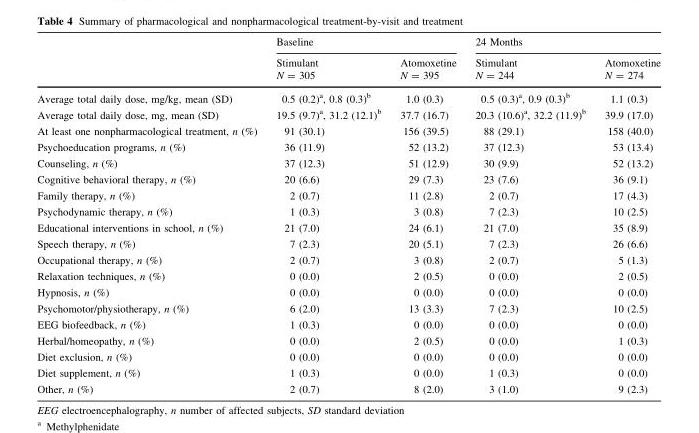table: (36, 36, 660, 394)
table column: (36, 36, 266, 394), (465, 36, 594, 394), (266, 36, 390, 394), (390, 36, 465, 394), (594, 36, 660, 394)
table column header: (36, 36, 660, 86)
table row: (36, 52, 660, 86), (36, 86, 660, 105), (36, 105, 660, 123), (36, 219, 660, 236), (36, 348, 660, 365), (36, 36, 660, 52), (36, 123, 660, 139), (36, 139, 660, 155), (36, 155, 660, 171), (36, 171, 660, 187), (36, 187, 660, 203), (36, 203, 660, 219), (36, 236, 660, 252), (36, 252, 660, 268), (36, 268, 660, 284), (36, 284, 660, 300), (36, 300, 660, 316), (36, 316, 660, 332), (36, 332, 660, 348), (36, 365, 660, 381), (36, 381, 660, 394)
table spanning cell: (266, 36, 465, 52), (465, 36, 660, 52)
